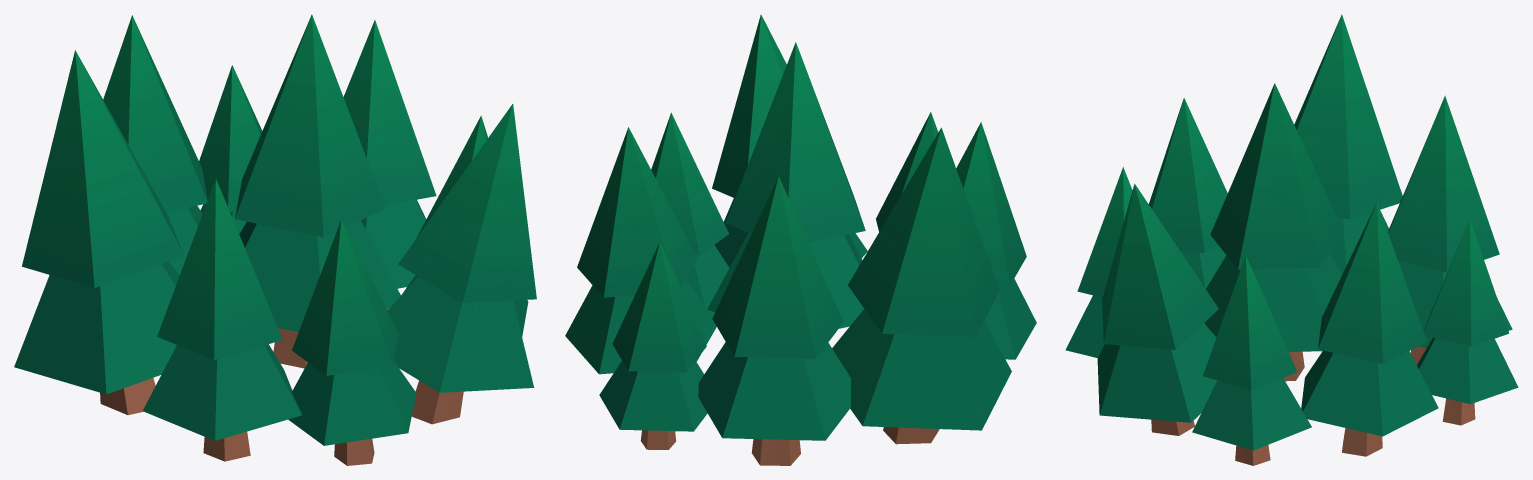
File: trees_A_small.glb
3 renders of one model, left to right at view 1: azimuth 30°, elevation 25°; view 2: azimuth 150°, elevation 25°; view 3: azimuth 270°, elevation 25°, orthographic. The views are drawn at different scales.
Visible parts, largest first — view 1: trees_A_small; view 2: trees_A_small; view 3: trees_A_small.
Part boxes in pixels (bbox=[...]): trees_A_small: bbox=[14, 14, 536, 465]; trees_A_small: bbox=[565, 14, 1036, 465]; trees_A_small: bbox=[1065, 14, 1518, 465].
Size of the model in its own units: 1.43 by 1.11 by 1.44.
1 material, 1 textured.
